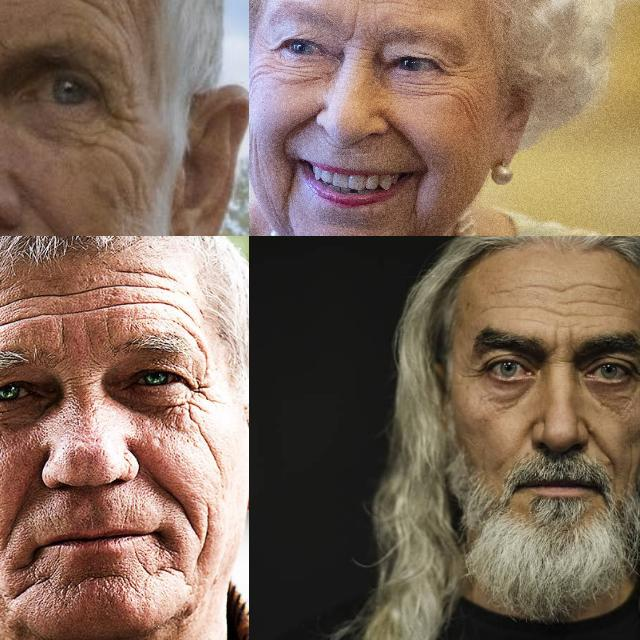chin: (63, 564, 137, 588)
crows_feet: (105, 92, 141, 144), (186, 371, 217, 421), (442, 63, 476, 99), (252, 44, 274, 78), (461, 361, 485, 384), (633, 368, 640, 388)
forehead: (116, 262, 186, 324), (538, 278, 632, 312), (32, 280, 104, 320), (38, 0, 109, 22), (482, 284, 516, 318), (0, 286, 21, 335), (371, 0, 442, 14)
frown_line: (550, 322, 576, 360), (344, 40, 374, 62), (342, 20, 358, 48)
gummy_smile: (25, 186, 91, 236), (142, 468, 194, 512), (0, 493, 32, 547), (580, 423, 614, 462), (282, 106, 314, 146), (392, 125, 428, 159)
masseter: (189, 506, 219, 558), (460, 110, 488, 146), (249, 130, 265, 176), (625, 447, 637, 495)
sad_smile: (8, 560, 42, 610), (154, 539, 190, 577), (279, 162, 299, 212), (410, 183, 424, 227)
smoker_lines: (328, 144, 374, 162)
